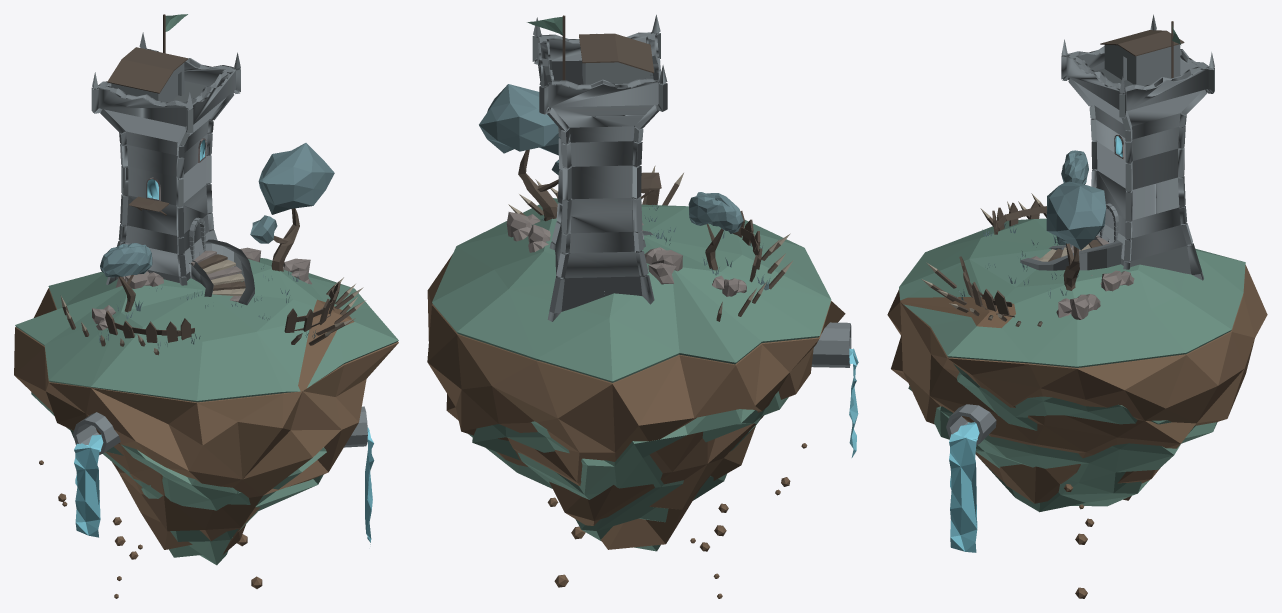
Rendered from Tower.fbx.
3 renders of one model, left to right at view 1: azimuth 30°, elevation 25°; view 2: azimuth 150°, elevation 25°; view 3: azimuth 270°, elevation 25°, orthographic. The views are drawn at different scales.
Visible parts, largest first — view 1: Ground, Ground_2, Cube_2_5, Leaves_2_2, Cube_4_4, Plane_2, Leaves_3_2, Cylinder, Extrude_2, Cube_5_4, Trunk_2, Plane_1 (+2 smaller); view 2: Ground, Ground_2, Cube_2_5, Leaves_2_2, Cube_4_4, Leaves_3_2, Cylinder, Cube_5_4, Trunk_2, Plane_2; view 3: Ground, Ground_2, Cube_2_5, Leaves_2_2, Plane_1, Cube_5_4, Extrude_2, Cube_4_4, Cylinder_1, Leaves_3_2.
Part boxes in pixels (x1=…): Ground: x1=15, y1=257, x2=398, y2=565; Ground_2: x1=14, y1=288, x2=398, y2=554; Cube_2_5: x1=91, y1=32, x2=240, y2=285; Leaves_2_2: x1=258, y1=143, x2=334, y2=214; Cube_4_4: x1=107, y1=47, x2=188, y2=93; Plane_2: x1=74, y1=443, x2=100, y2=537; Leaves_3_2: x1=100, y1=243, x2=152, y2=277; Cylinder: x1=73, y1=412, x2=120, y2=455; Extrude_2: x1=205, y1=239, x2=254, y2=305; Cube_5_4: x1=111, y1=63, x2=184, y2=102; Trunk_2: x1=271, y1=208, x2=299, y2=271; Plane_1: x1=365, y1=436, x2=374, y2=544; Ground: x1=432, y1=198, x2=831, y2=551; Ground_2: x1=427, y1=254, x2=845, y2=549; Cube_2_5: x1=532, y1=14, x2=667, y2=321; Leaves_2_2: x1=479, y1=84, x2=560, y2=155; Cube_4_4: x1=579, y1=33, x2=654, y2=73; Leaves_3_2: x1=688, y1=192, x2=743, y2=233; Cylinder: x1=811, y1=322, x2=851, y2=367; Cube_5_4: x1=582, y1=62, x2=650, y2=84; Trunk_2: x1=518, y1=149, x2=557, y2=221; Plane_2: x1=849, y1=348, x2=858, y2=457; Ground: x1=899, y1=218, x2=1245, y2=512; Ground_2: x1=887, y1=264, x2=1267, y2=503; Cube_2_5: x1=1061, y1=14, x2=1214, y2=280; Leaves_2_2: x1=1046, y1=181, x2=1106, y2=249; Plane_1: x1=949, y1=434, x2=977, y2=552; Cube_5_4: x1=1104, y1=44, x2=1180, y2=85; Extrude_2: x1=1020, y1=240, x2=1122, y2=270; Cube_4_4: x1=1100, y1=30, x2=1184, y2=56; Cylinder_1: x1=946, y1=404, x2=996, y2=445; Leaves_3_2: x1=1061, y1=150, x2=1088, y2=184.
Size of the model in its own units: 382 by 629 by 392.
